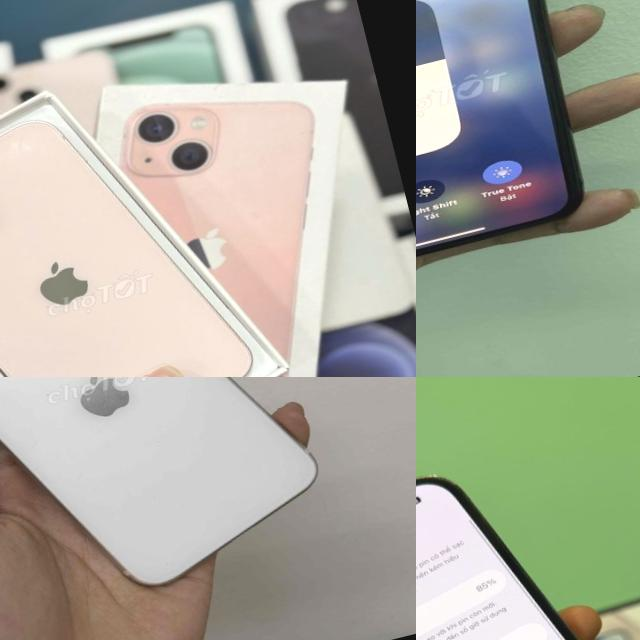gen_12_13: (0, 81, 274, 377)
gen_15: (416, 429, 640, 640)
gen_7_8: (0, 377, 340, 637)
gen_x_xs: (416, 0, 615, 301)
scratch: (66, 377, 138, 423)
